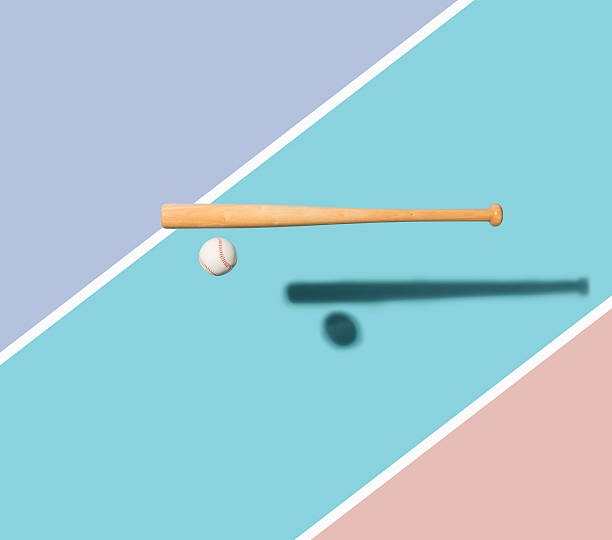bita: (159, 200, 510, 235)
